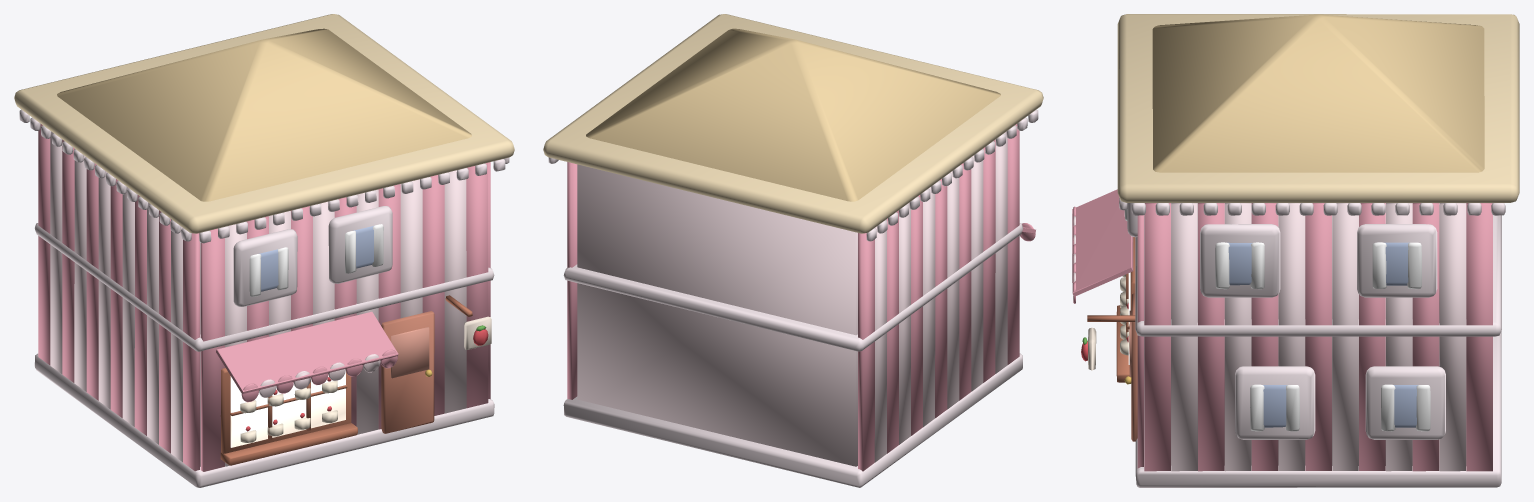
Rendered from cake.glb.
The picture shows the model from 3 angles, left to right: view 1: azimuth 30°, elevation 25°; view 2: azimuth 150°, elevation 25°; view 3: azimuth 270°, elevation 25°; orthographic projection. The views are drawn at different scales.
Parts seen in each view (by area): view 1: cake; view 2: cake; view 3: cake.
Part boxes in pixels (x1=…): cake: x1=14, y1=14, x2=514, y2=487; cake: x1=543, y1=14, x2=1043, y2=487; cake: x1=1072, y1=14, x2=1519, y2=487.
Size of the model in its own units: 2.4 by 2.48 by 2.56.
